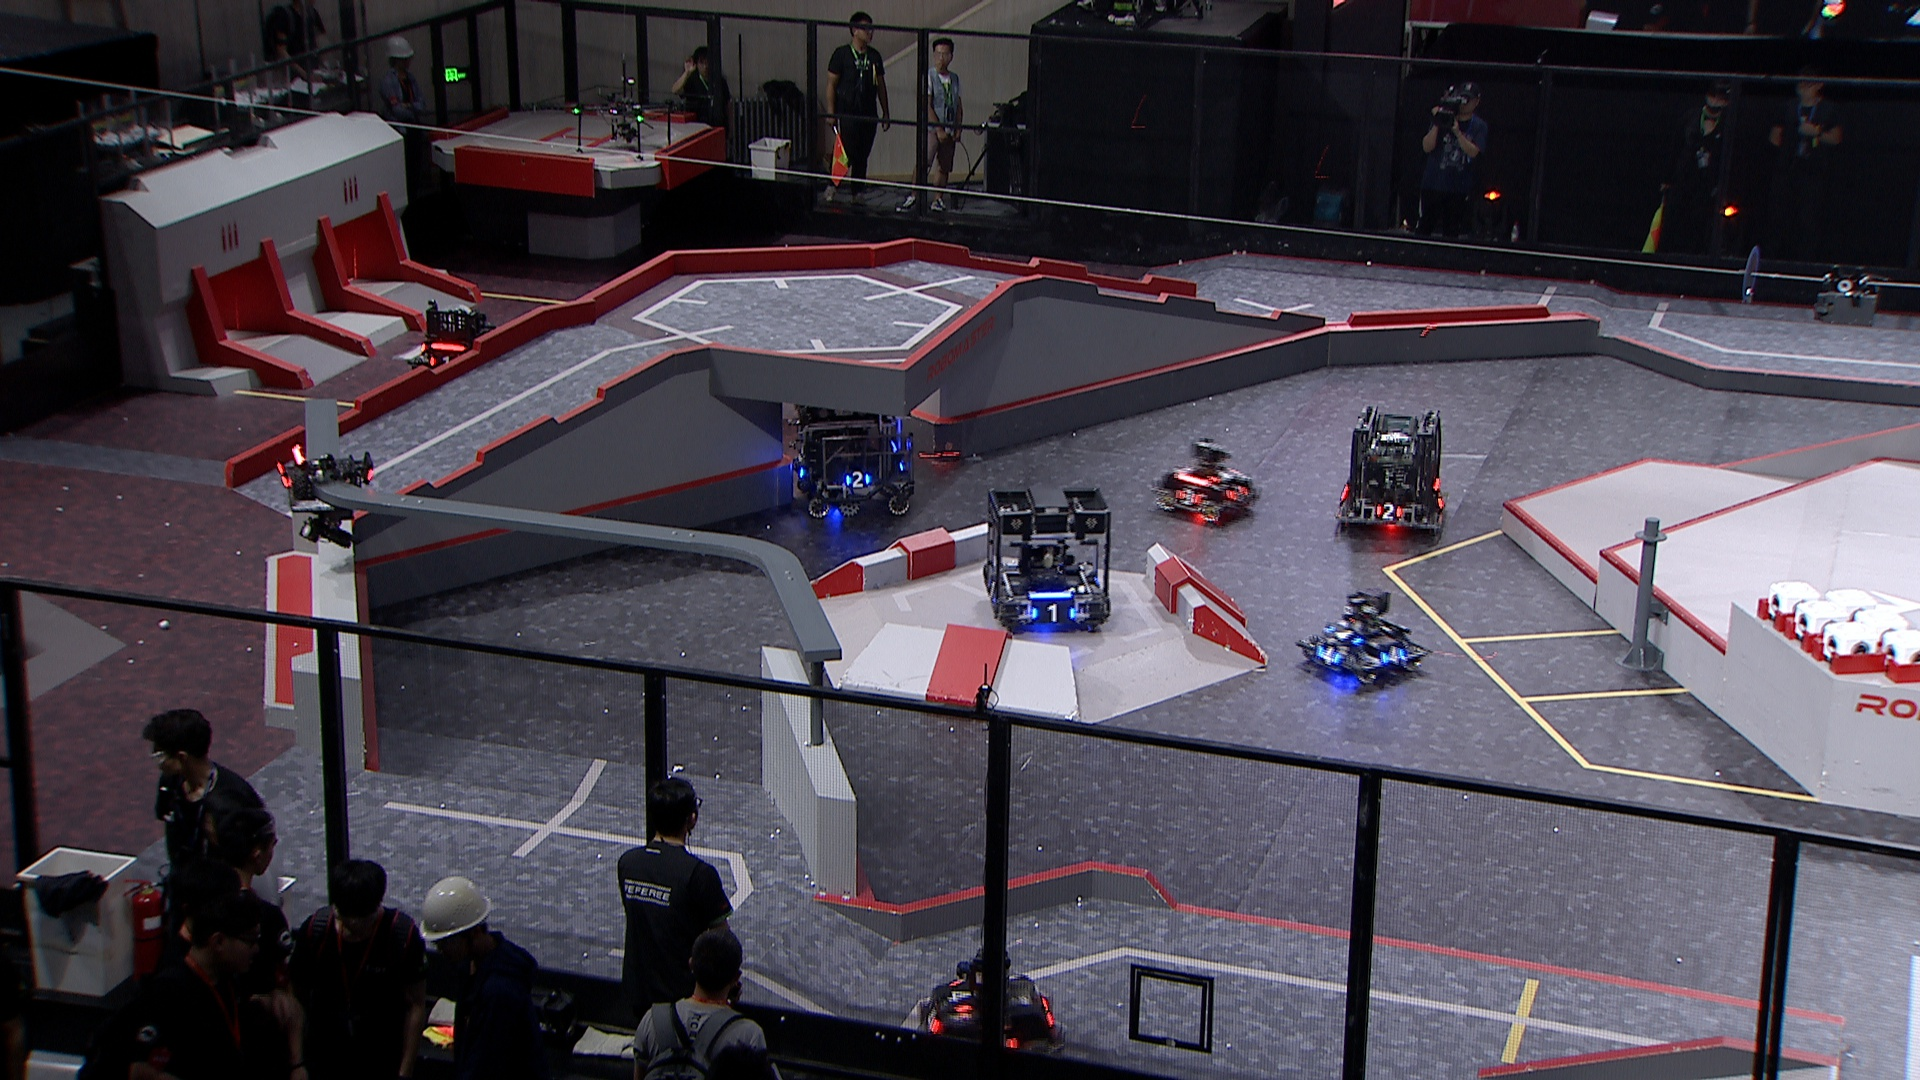armor: (945, 981, 973, 1015), (1325, 622, 1358, 646), (1031, 604, 1076, 621), (922, 1001, 942, 1033), (1174, 485, 1201, 506), (844, 472, 873, 489), (1313, 645, 1338, 665), (1375, 502, 1400, 522), (1381, 645, 1404, 665), (986, 576, 1001, 605), (425, 352, 451, 367), (1436, 489, 1449, 510), (1228, 485, 1247, 498)
car: (978, 487, 1116, 633), (789, 380, 920, 527), (913, 945, 1058, 1063), (1331, 404, 1449, 546), (1296, 589, 1432, 684), (1154, 443, 1259, 527), (406, 301, 498, 390)
watcher: (276, 442, 378, 550)
